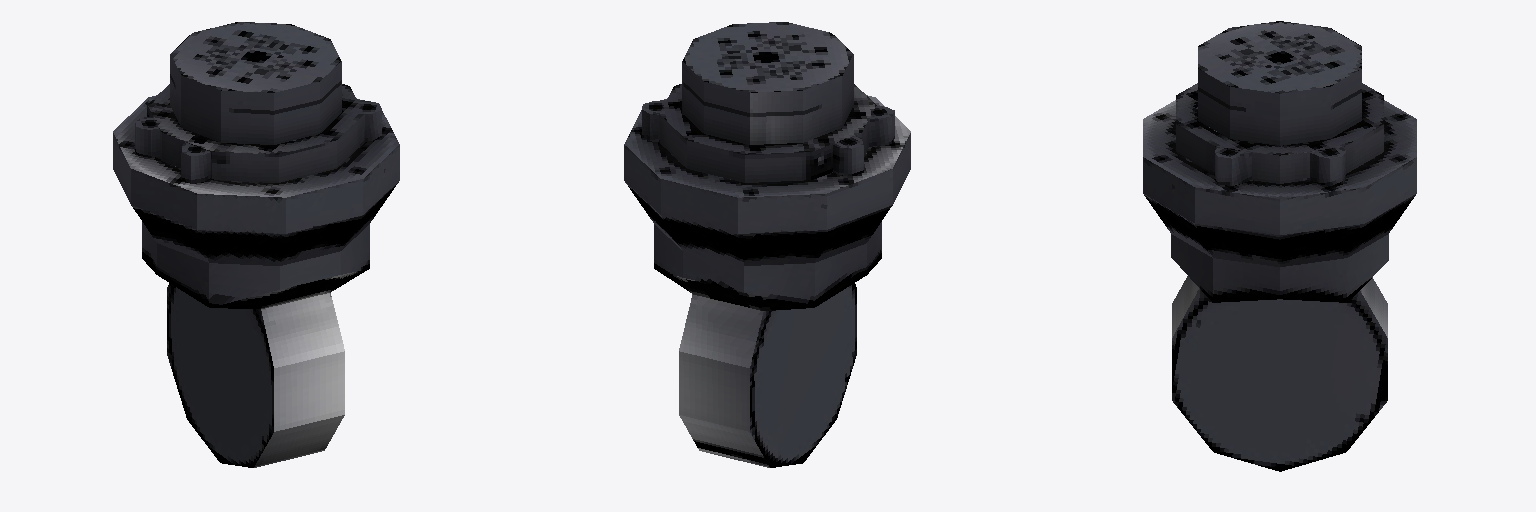
The picture shows the model from 3 angles: view 1: azimuth 30°, elevation 25°; view 2: azimuth 150°, elevation 25°; view 3: azimuth 270°, elevation 25°; orthographic projection.
Parts seen in each view (by area): view 1: l_hand; view 2: l_hand; view 3: l_hand.
Part boxes in pixels (x1,y1,x2,y2): l_hand: (113,22,399,467); l_hand: (624,22,910,467); l_hand: (1143,21,1416,471).
Bounding box in the file's own units: 0.1021 × 0.1551 × 0.0971.
1 materials, 1 textured.